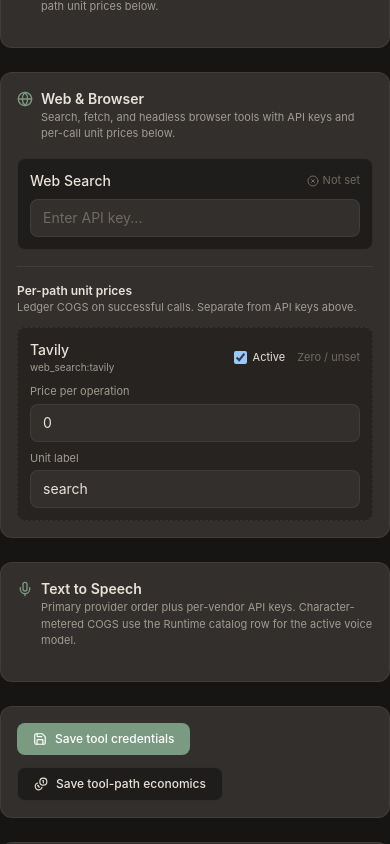
AdminToolsPage economics › loads and saves tool-path economics
The image size is (390, 844).
(page scrolled)
Expected: the button "Save tool-path economics" is shown, [17,766,223,800]
Replace the text in the field labelled "Price per operation" with "0.05" at (195, 422), box [30,404,360,442]
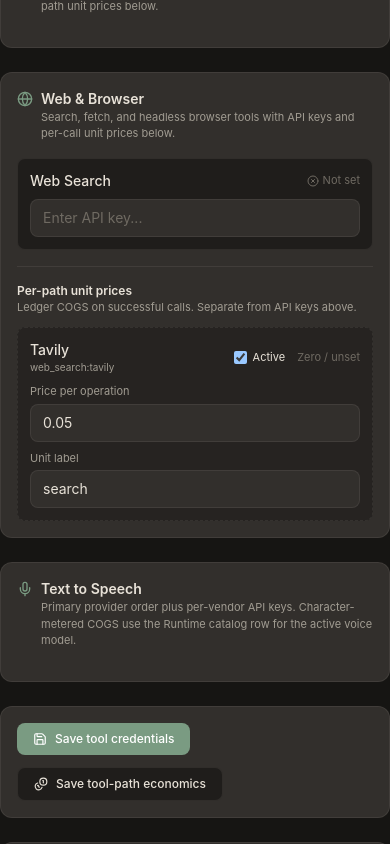
Click the button "Save tool-path economics" at (120, 784), box [17,766,223,800]
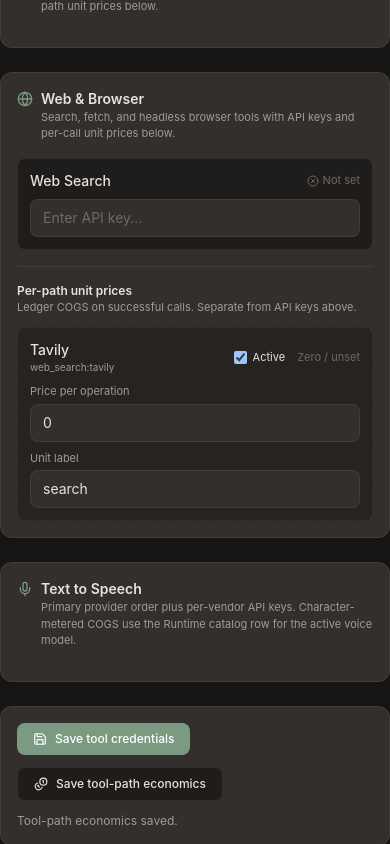
Expected: the text "Tool-path economics saved." is shown, [17,812,178,828]
